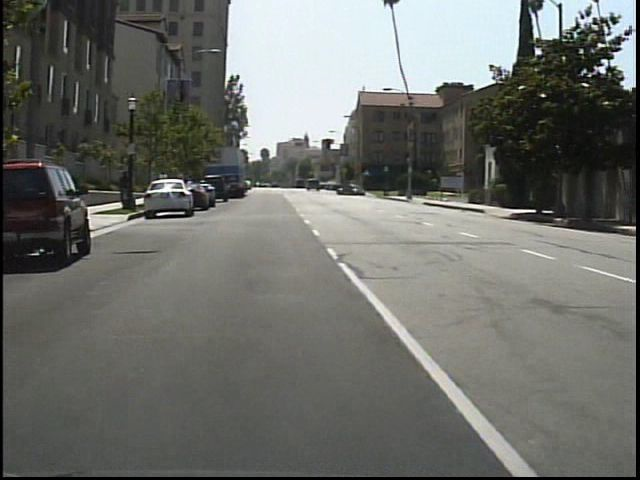person: (114, 167, 126, 203)
